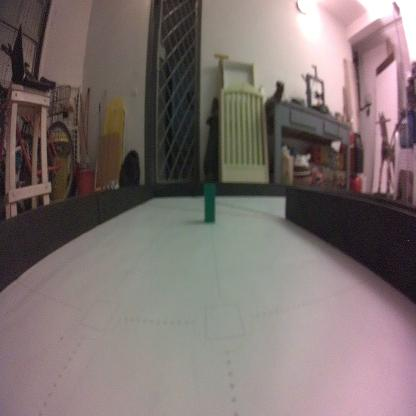green: (202, 181, 218, 227)
